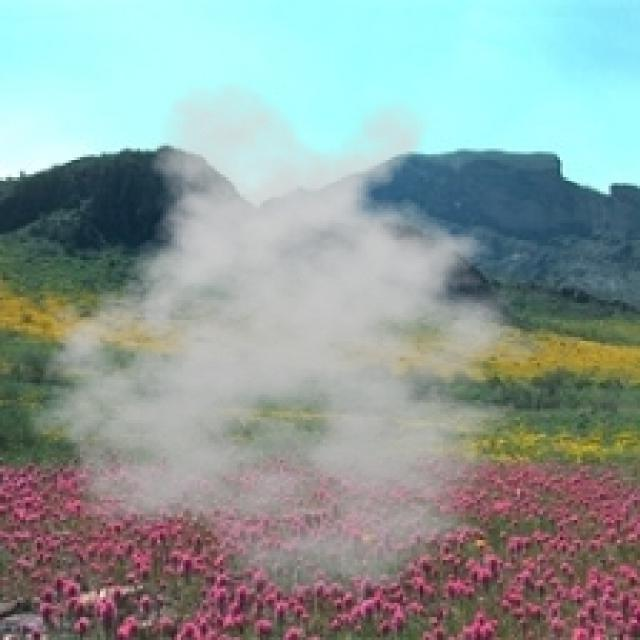Smoke: (14, 80, 577, 600)
